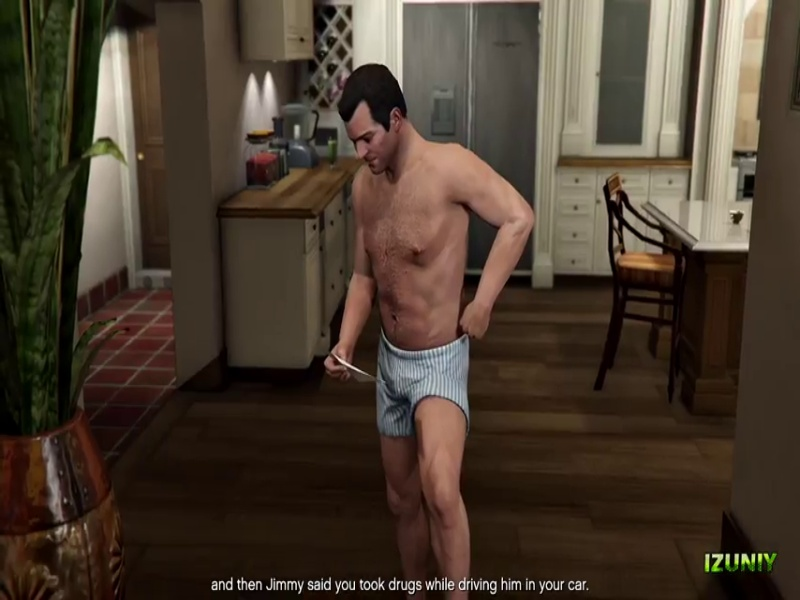human: (324, 56, 532, 590)
